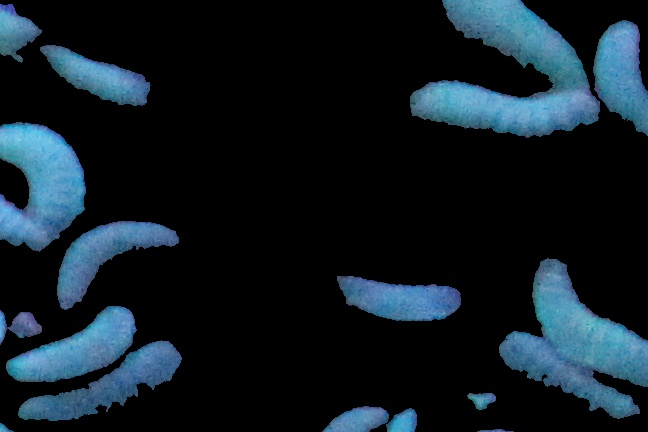larvae: (532, 257, 648, 386), (17, 341, 181, 420), (438, 1, 586, 84), (500, 331, 640, 417), (407, 81, 604, 137), (57, 223, 181, 308), (6, 307, 138, 381), (1, 120, 84, 228), (41, 42, 153, 110), (594, 19, 648, 133), (336, 277, 464, 323), (1, 201, 58, 250)
